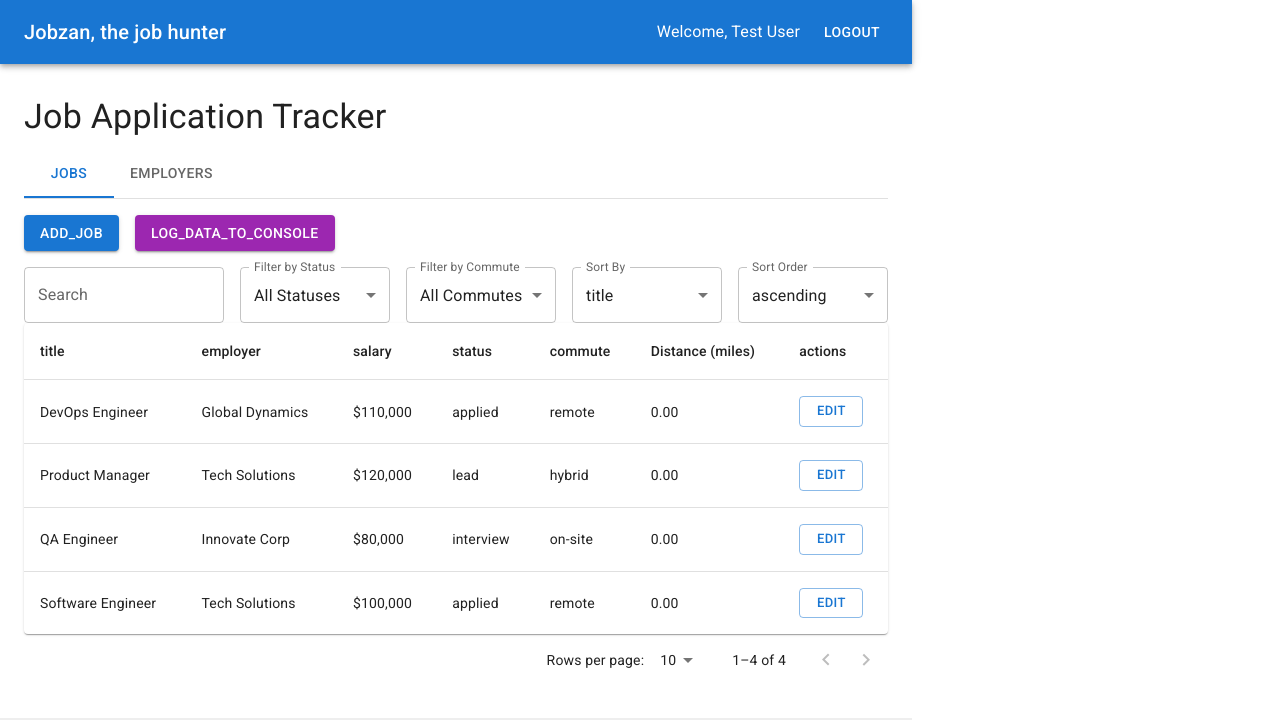
Test case: App › filters jobs by commute type
The width and height of the screenshot is (1280, 720).
Click the dropdown named "Filter by Commute" at (471, 295), box [420,286,522,305]
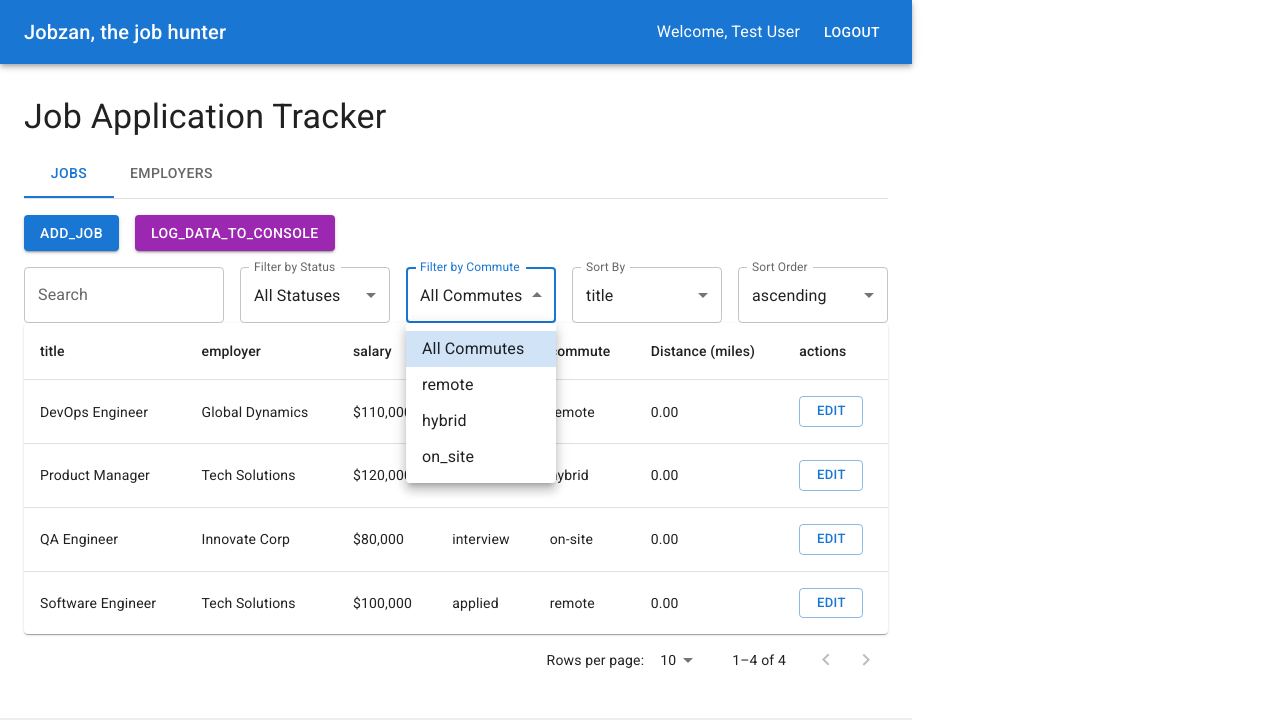
Click the option "on_site" at (448, 456), box [422,447,474,466]
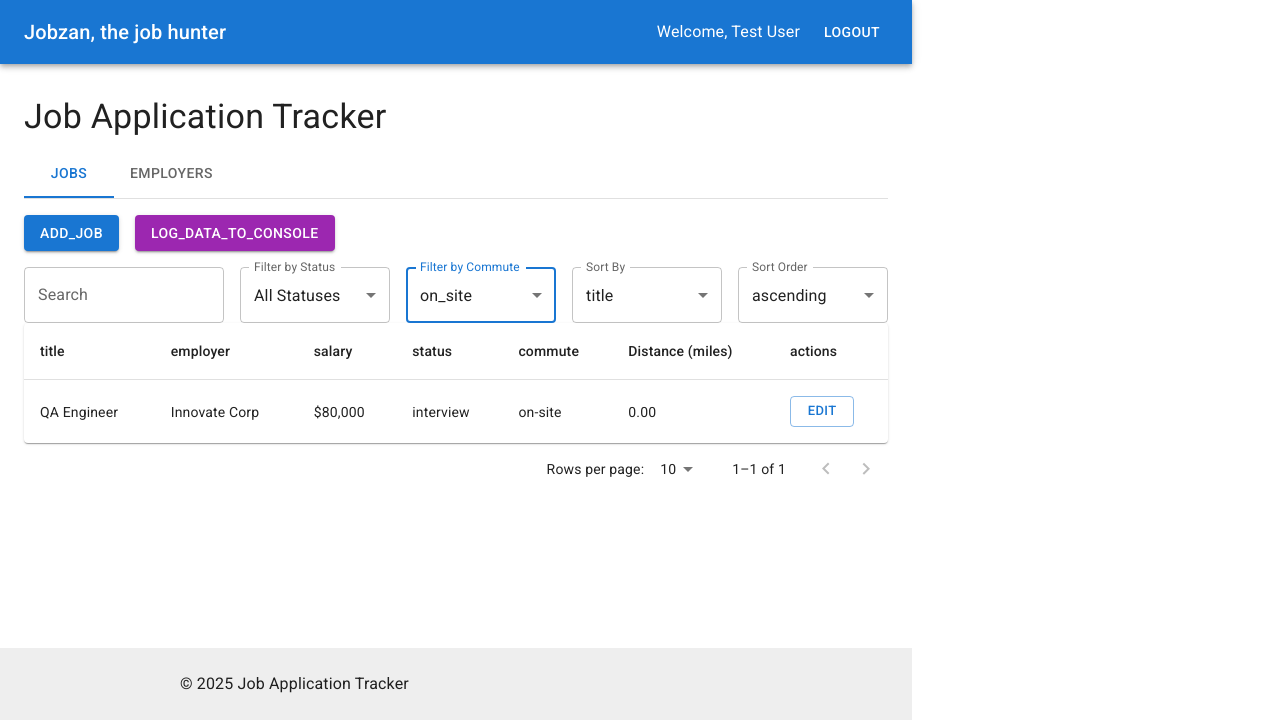
Expected: the column heading "QA Engineer" is shown, [24,380,155,443]
Expected: the column heading "Software Engineer" is gone
